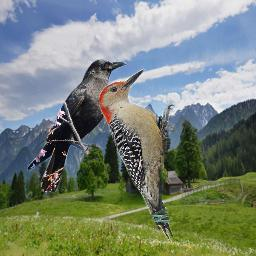Crow: (27, 58, 126, 192)
Woodpecker: (99, 67, 175, 242)
